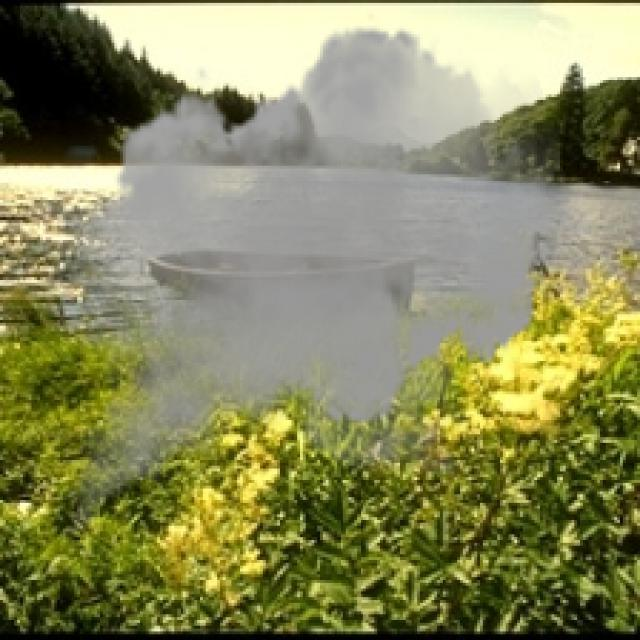Smoke: (54, 11, 597, 566)
